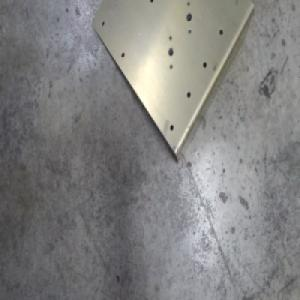MetalSheet: (91, 0, 254, 166)
